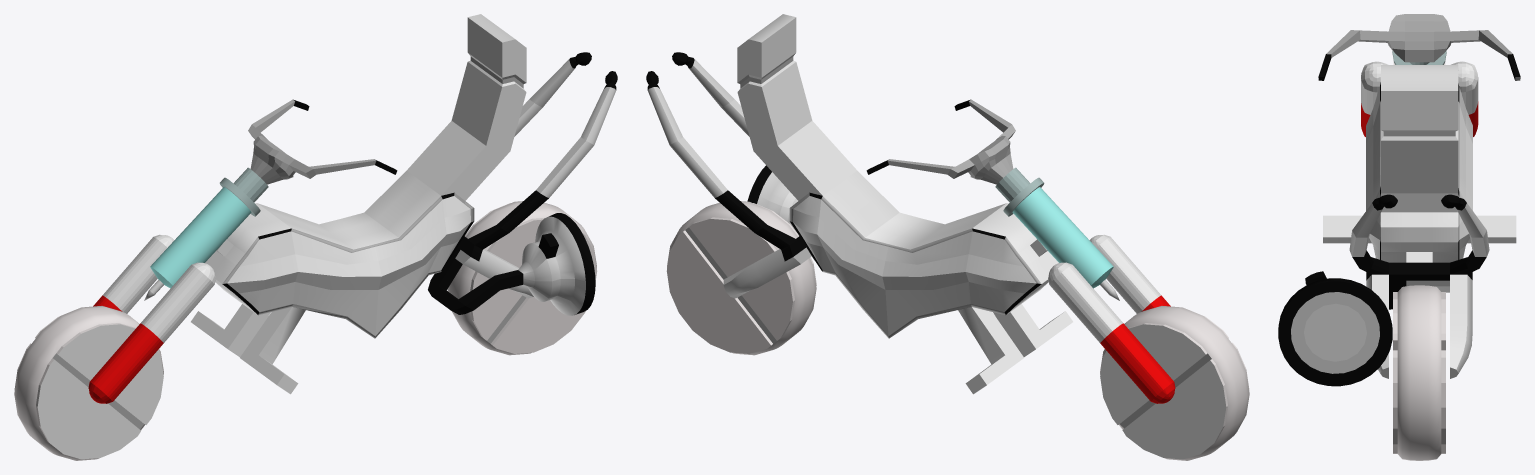
File: BikeUpdate03.fbx
3 views of the same model, side by side, from view 1: azimuth 30°, elevation 25°; view 2: azimuth 150°, elevation 25°; view 3: azimuth 270°, elevation 25° (orthographic). The views are drawn at different scales.
Visible parts, largest first — view 1: polySurface11; view 2: polySurface11; view 3: polySurface11.
Part boxes in pixels (x1,y1,x2,y2): polySurface11: (14, 14, 617, 460); polySurface11: (646, 14, 1249, 460); polySurface11: (1278, 14, 1520, 460).
Size of the model in its own units: 23 by 12.4 by 7.4.
